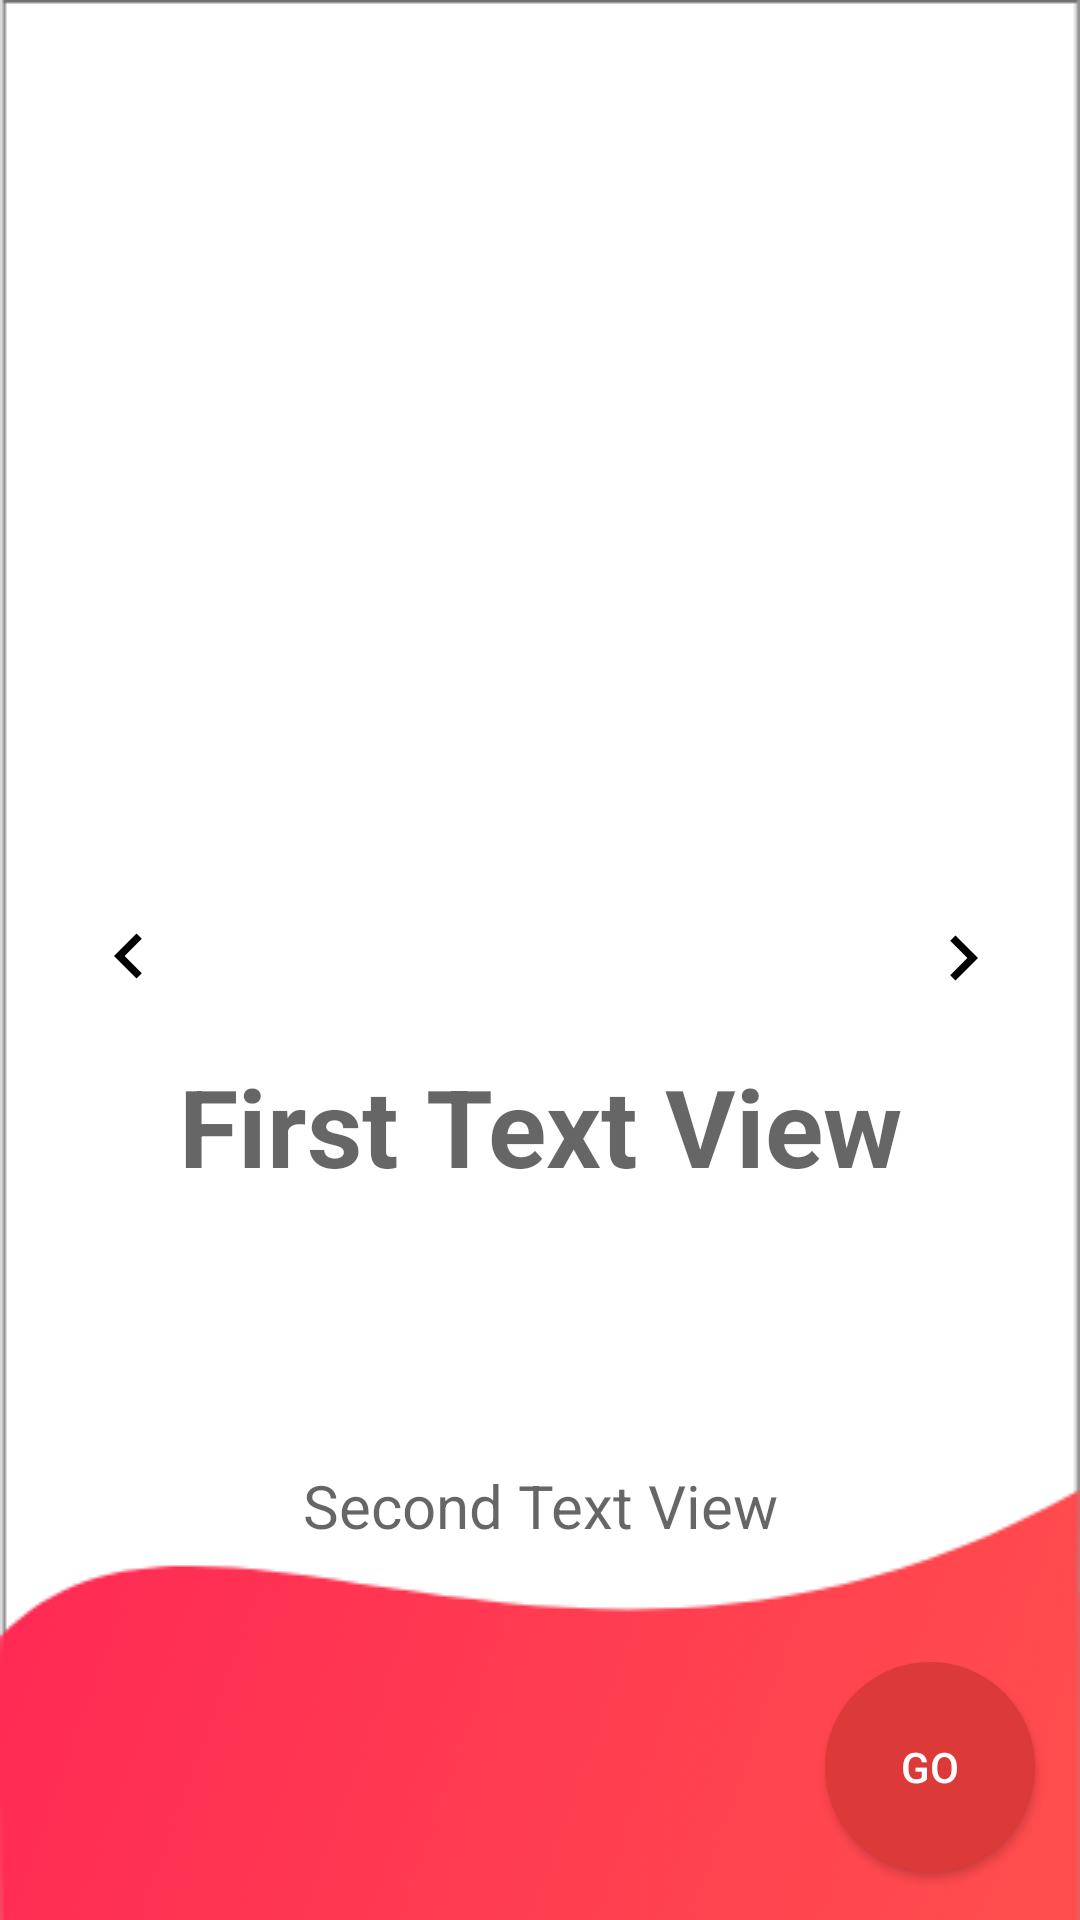

Where icons sit on this 1080px x 1920px app screen, as bbox=(x1, y1, x2, y2):
back: bbox=(114, 933, 142, 979)
next: bbox=(950, 935, 978, 981)
